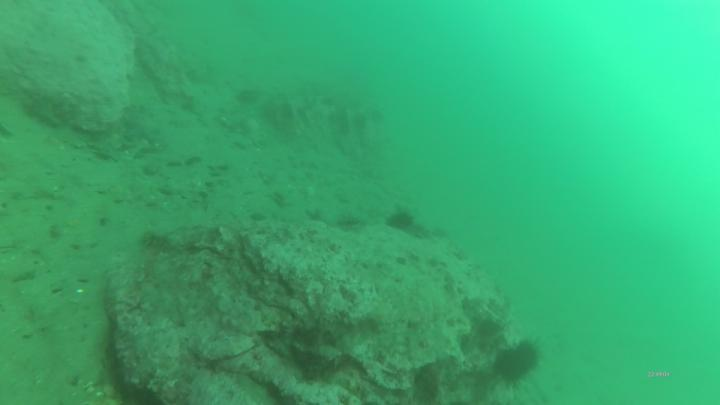echinus: (493, 344, 529, 389), (515, 338, 543, 378), (382, 209, 419, 235)
